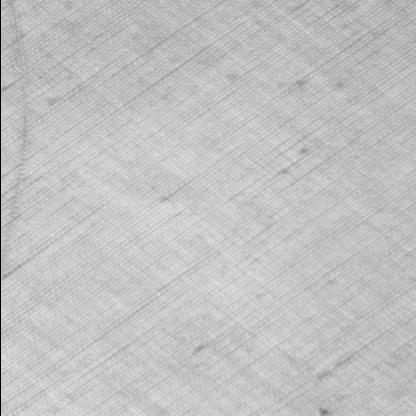objects: (0, 1, 32, 275)
